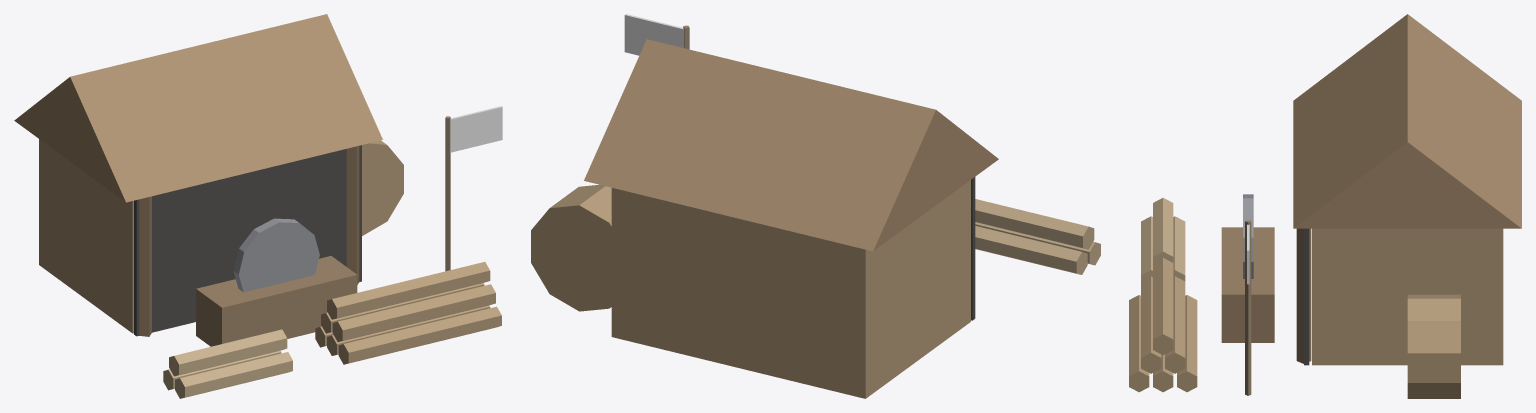
3 views of the same model, side by side, from view 1: azimuth 30°, elevation 25°; view 2: azimuth 150°, elevation 25°; view 3: azimuth 270°, elevation 25° (orthographic). The views are drawn at different scales.
Visible parts, largest first — view 1: body; view 2: body; view 3: body.
Part boxes in pixels (bbox=[...]): body: bbox=[14, 14, 502, 398]; body: bbox=[531, 14, 1100, 398]; body: bbox=[1129, 14, 1521, 398].
Size of the model in its own units: 8.2 by 4.9 by 7.39.
